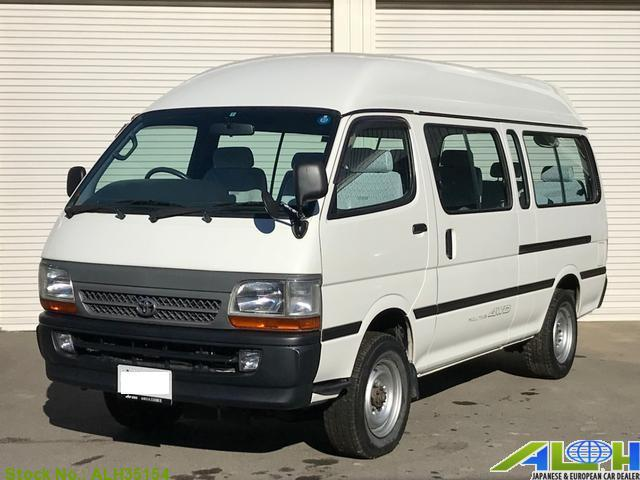Van: (38, 48, 613, 421)
